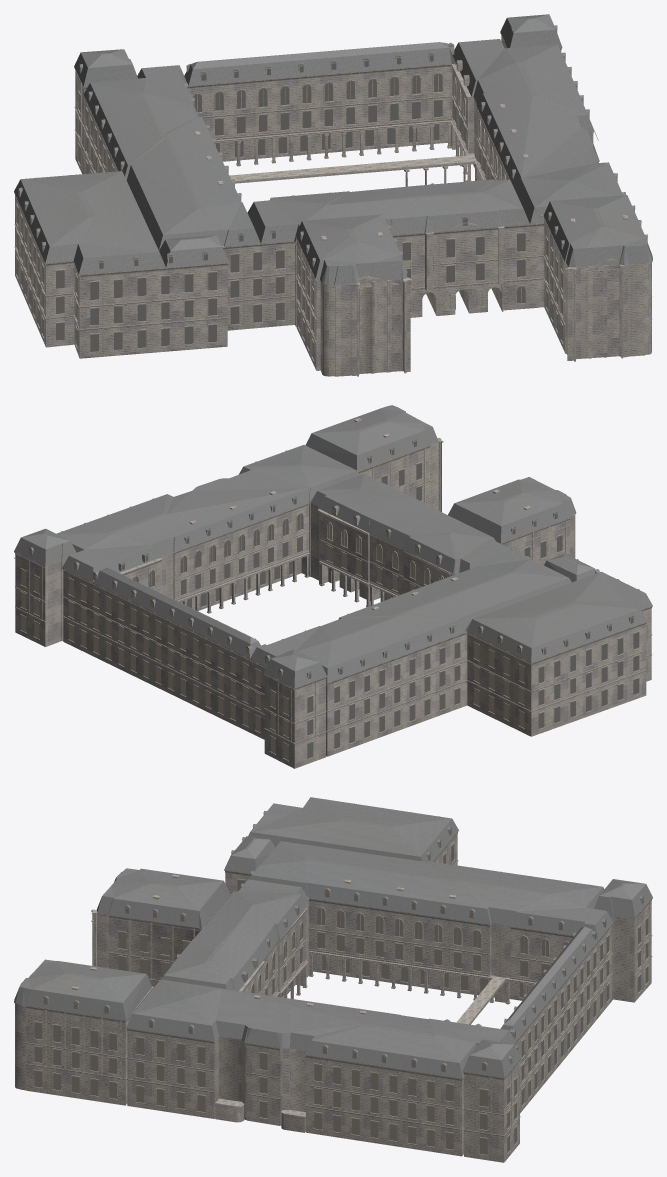
File: palais-royal.glb
3 views of the same model, one above another, from view 1: azimuth 30°, elevation 25°; view 2: azimuth 150°, elevation 25°; view 3: azimuth 270°, elevation 25° (orthographic). The views are drawn at different scales.
Visible parts, largest first — view 1: roof, stone, trim, window; view 2: roof, stone, window, trim; view 3: roof, stone, window, trim.
Boxes of the visible parts, x1,y1,x2,y2 form: roof: (14,14,652,287); stone: (15,28,651,376); trim: (14,32,652,361); window: (17,55,562,359); roof: (14,405,652,688); stone: (15,421,651,768); window: (21,441,639,760); trim: (14,418,652,761); roof: (14,797,652,1083); stone: (15,813,651,1162); window: (34,829,648,1154); trim: (14,830,652,1155).
Bounding box in the file's own units: 171 × 30 × 166.
4 materials, 4 textured.
